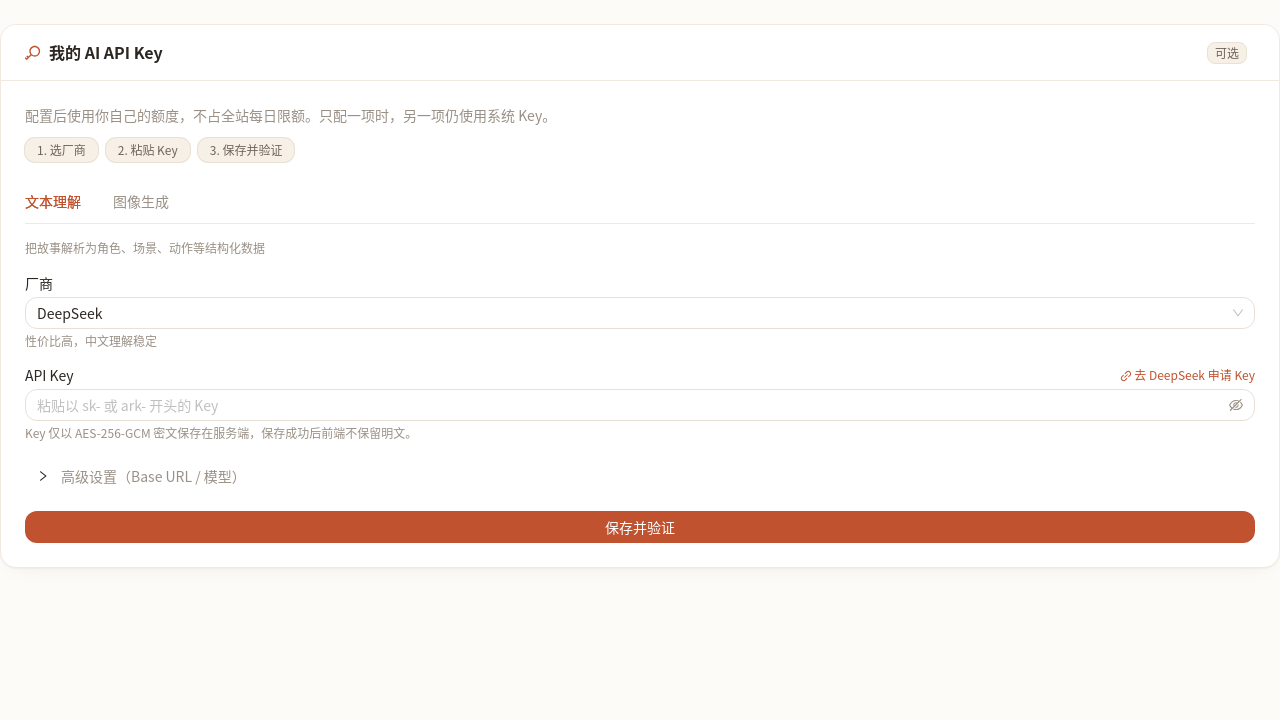
Test: AiCredentialCard（BYOK 接入） › 测试失败时不保存，也不提供仍然保存
The width and height of the screenshot is (1280, 720).
Expected: the text "我的 AI API Key" is shown, [49, 40, 163, 64]
Type "sk-bad-key-123456" into the password field labelled "API Key" at (631, 405), box [37, 394, 1225, 416]
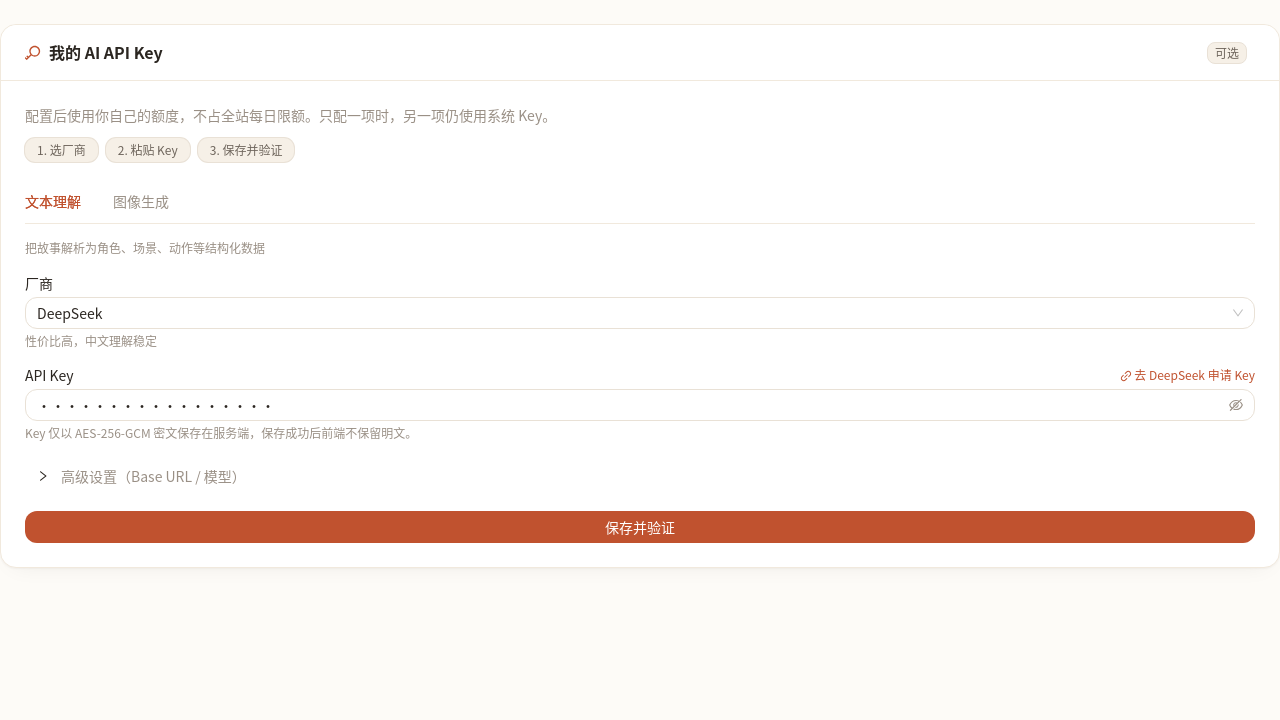
Click the button "保存并验证" at (640, 527), box [25, 511, 1255, 543]
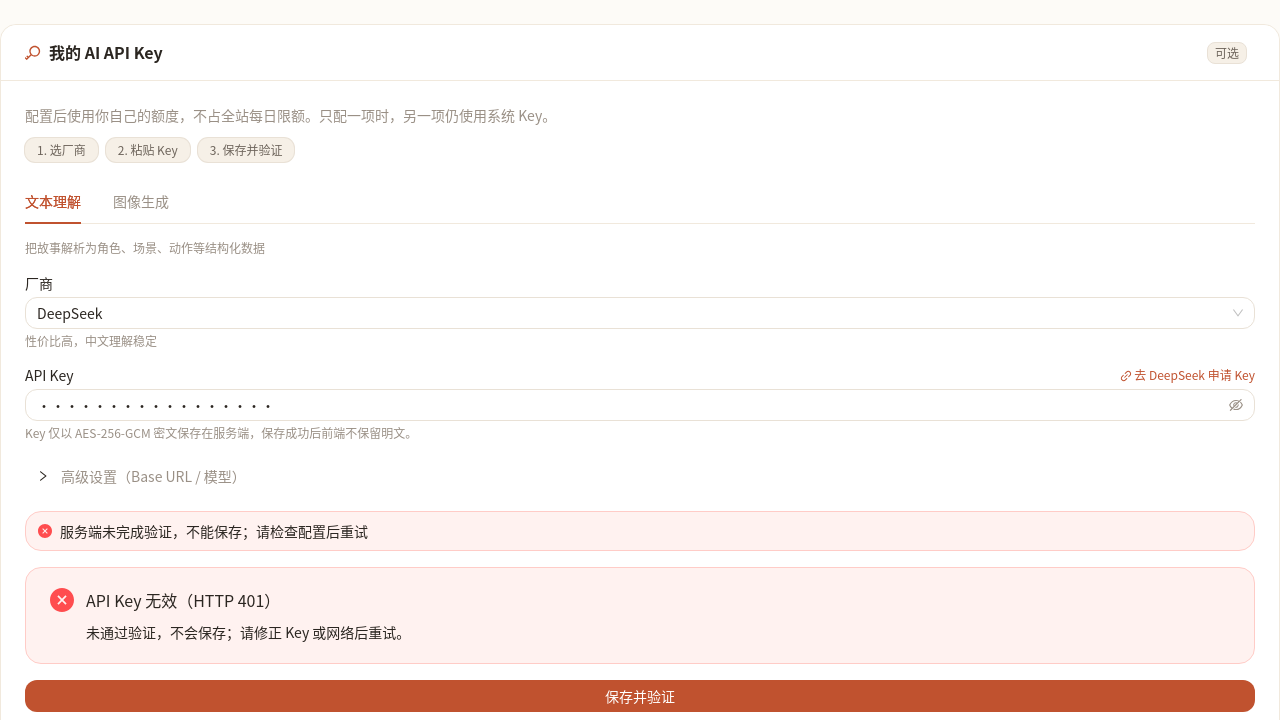
Now the text "API Key 无效（HTTP 401）" is shown, box [86, 588, 280, 612]
